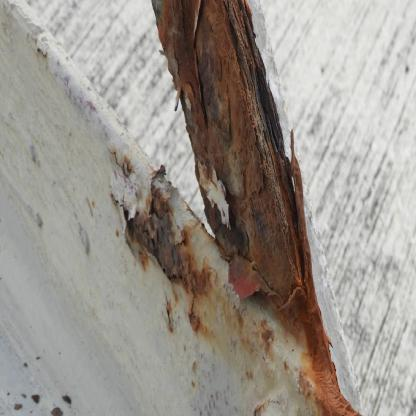Grado3: (153, 0, 320, 358)
